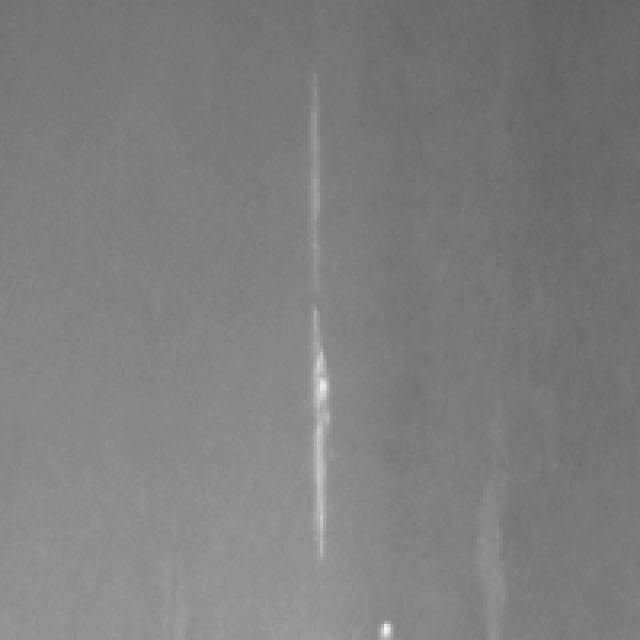scratches: (307, 74, 331, 556)
